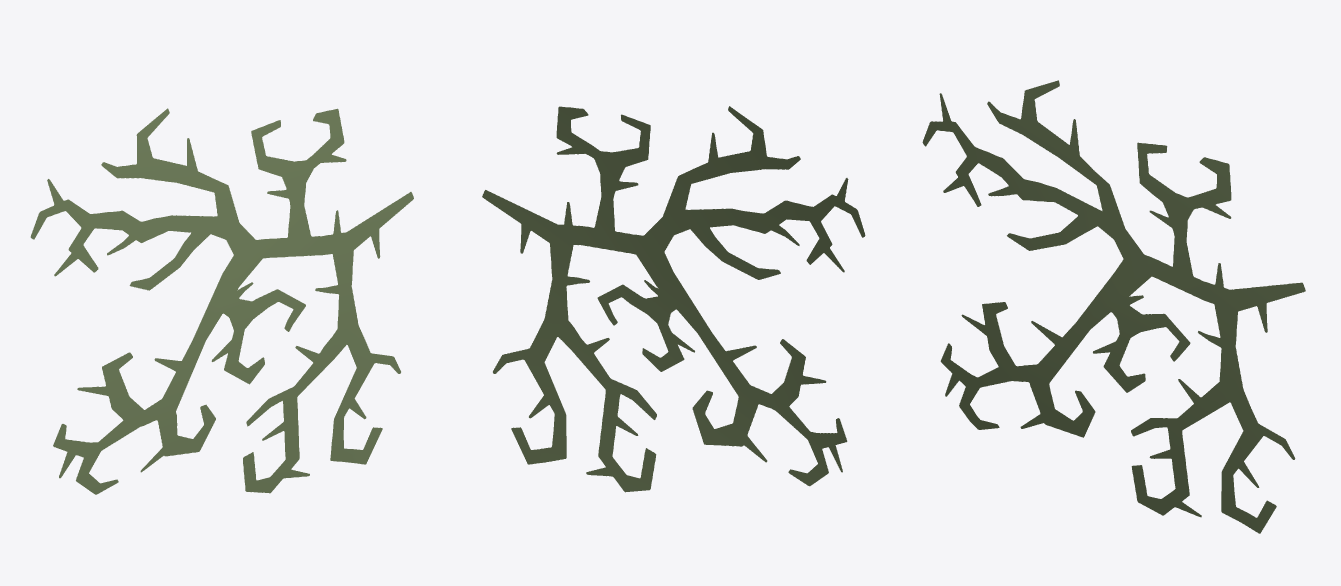
Rendered from crypt_vine_a.gltf.
The picture shows the model from 3 angles, left to right: view 1: azimuth 30°, elevation 25°; view 2: azimuth 150°, elevation 25°; view 3: azimuth 330°, elevation 25°; orthographic projection.
Parts seen in each view (by area): view 1: crypt_vine_a; view 2: crypt_vine_a; view 3: crypt_vine_a.
Boxes of the visible parts, x1,y1,x2,y2 form: crypt_vine_a: [30, 108, 413, 494]; crypt_vine_a: [482, 106, 865, 492]; crypt_vine_a: [922, 80, 1305, 533].
Bounding box in the file's own units: 1.57 × 1.63 × 0.0742.
1 material, 1 textured.
